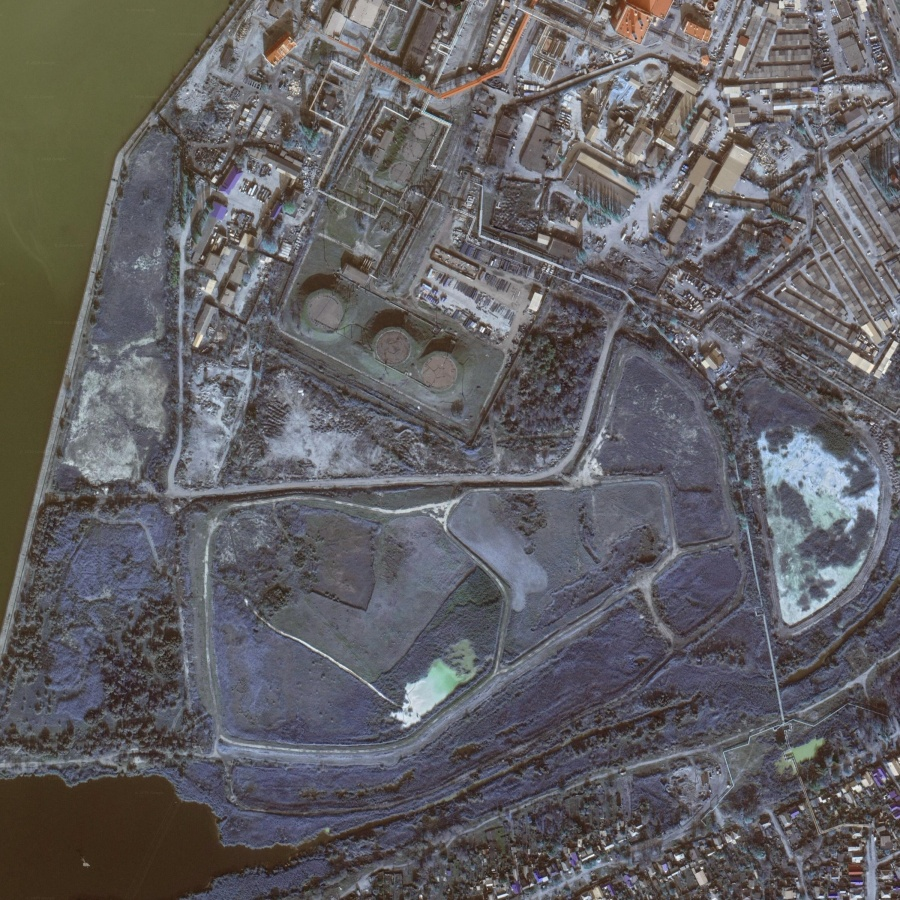PowerPlant: (288, 110, 474, 404)
